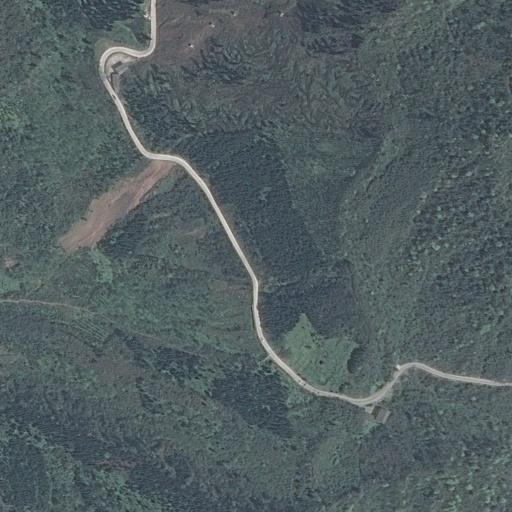landslide: (55, 158, 174, 253)
